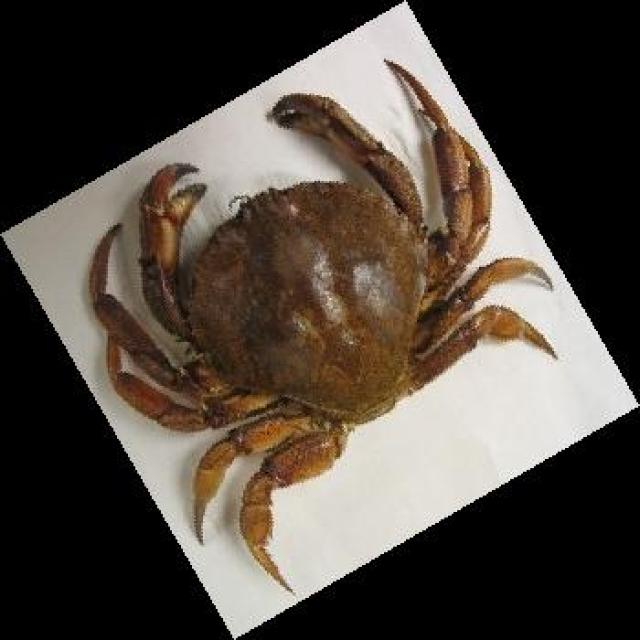Native Rock crab: (88, 60, 556, 591)
